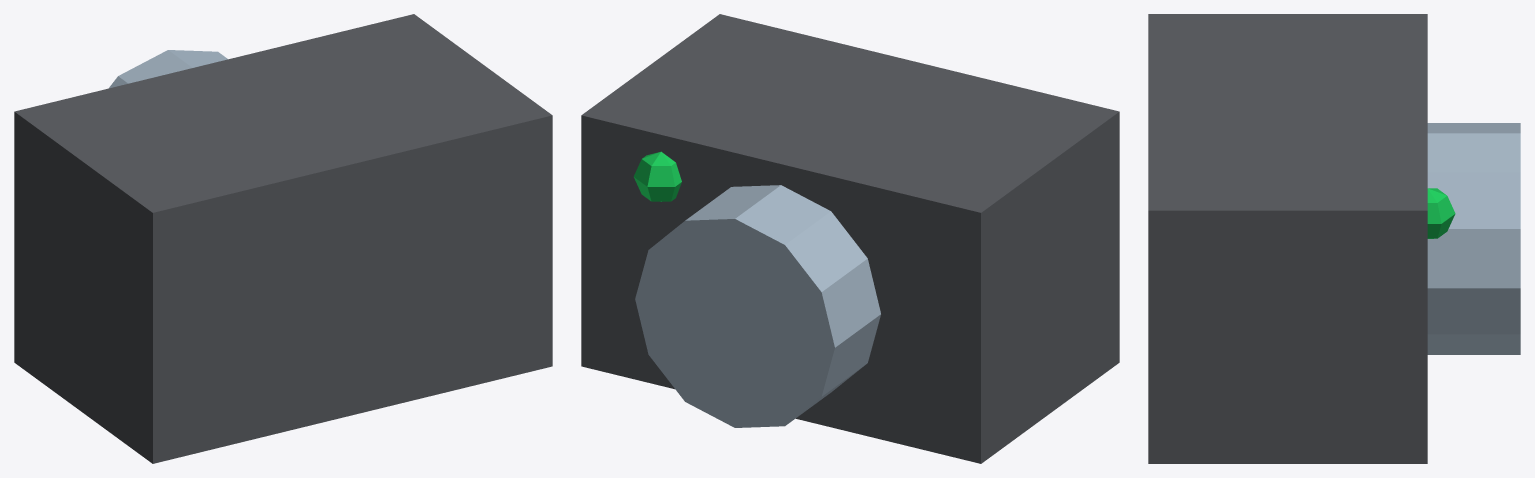
File: hm_bank_motion_sensor_v2.obj
3 views of the same model, side by side, from view 1: azimuth 30°, elevation 25°; view 2: azimuth 150°, elevation 25°; view 3: azimuth 270°, elevation 25° (orthographic).
Visible parts, largest first — view 1: MS_Body, MS_Lens; view 2: MS_Body, MS_Lens, MS_LED; view 3: MS_Body, MS_Lens, MS_LED.
Boxes of the visible parts, <box> form: MS_Body: <box>14,14,552,463</box>; MS_Lens: <box>109,50,227,88</box>; MS_Body: <box>581,14,1119,463</box>; MS_Lens: <box>635,185,880,427</box>; MS_LED: <box>633,151,681,201</box>; MS_Body: <box>1148,14,1427,463</box>; MS_Lens: <box>1427,123,1520,354</box>; MS_LED: <box>1427,188,1455,238</box>.
Size of the model in its own units: 0.1 by 0.06 by 0.08.
